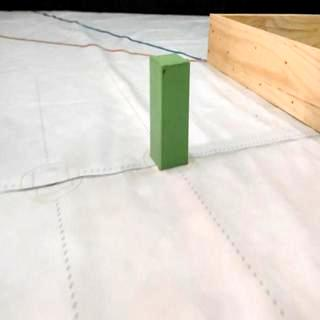greenbox: (147, 51, 190, 171)
